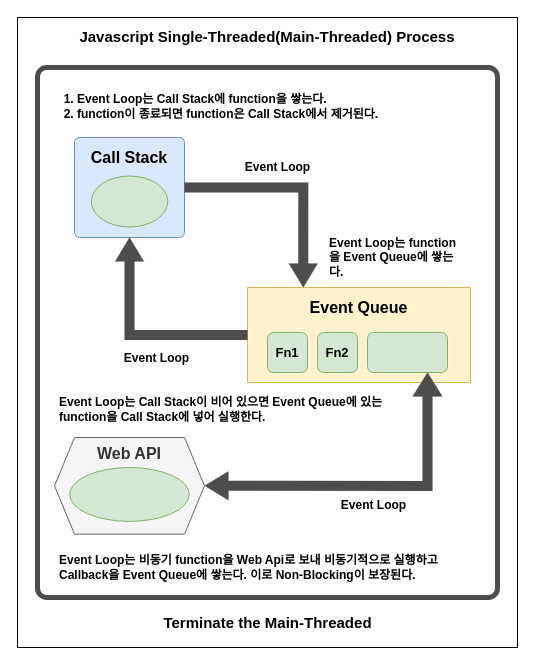
Image size: 535x665. Some labels were removed from this diagram. Each missing label, with the centre of its shape:
"async function" goes at (129,493).
"Callback" goes at (407,352).
"function" goes at (129,201).
